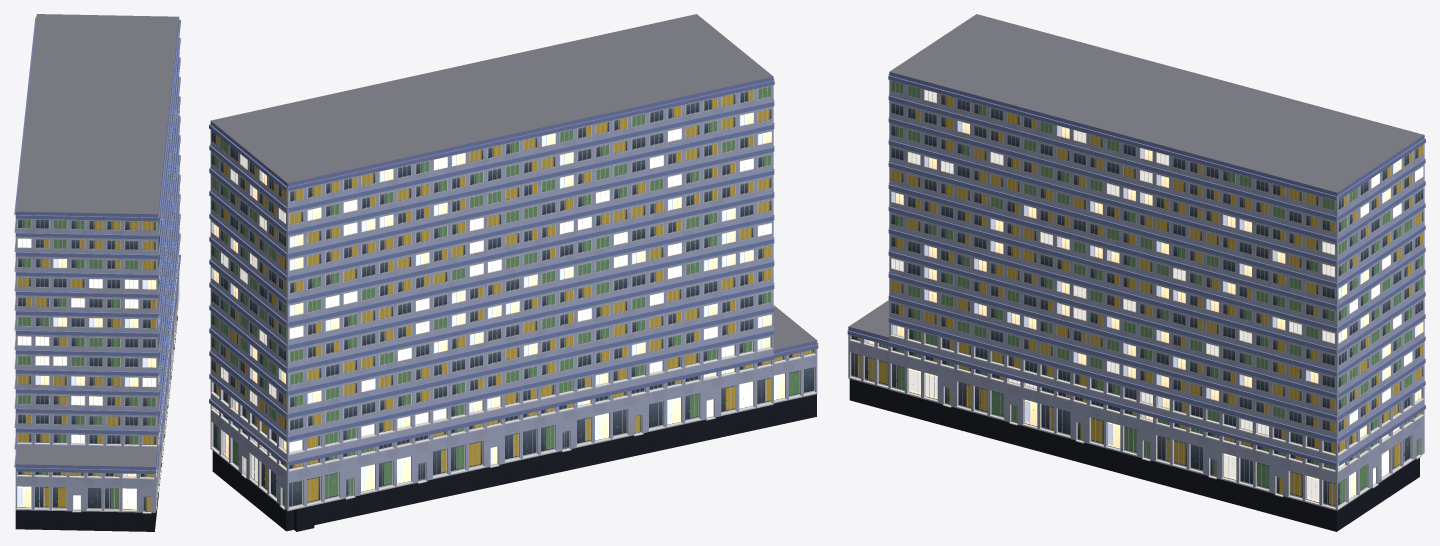
Rendered from james.glb.
3 renders of one model, left to right at view 1: azimuth 30°, elevation 25°; view 2: azimuth 150°, elevation 25°; view 3: azimuth 270°, elevation 25°, orthographic. The views are drawn at different scales.
Parts seen in each view (by area): view 1: james; view 2: james; view 3: james.
Boxes of the visible parts, x1,y1,x2,y2 form: james: [14, 14, 180, 531]; james: [209, 14, 818, 531]; james: [847, 14, 1425, 531].
Size of the model in its own units: 55.79 by 46.54 by 71.74.
3 materials, 3 textured.
